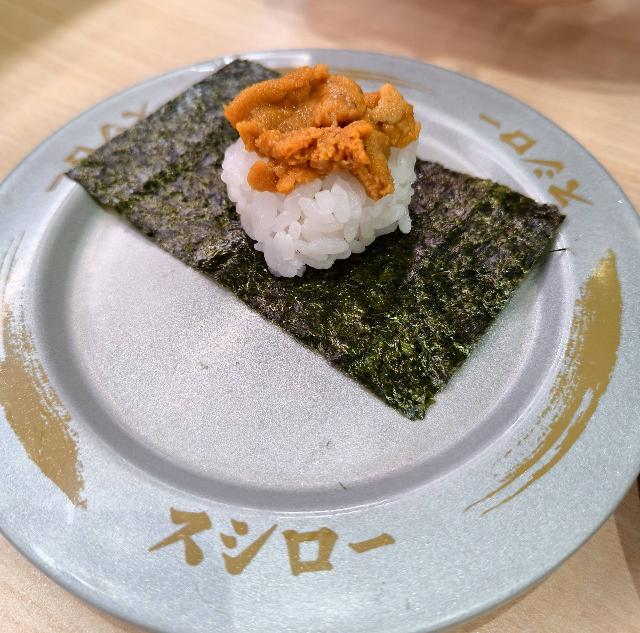janwhite: (45, 56, 624, 633)
